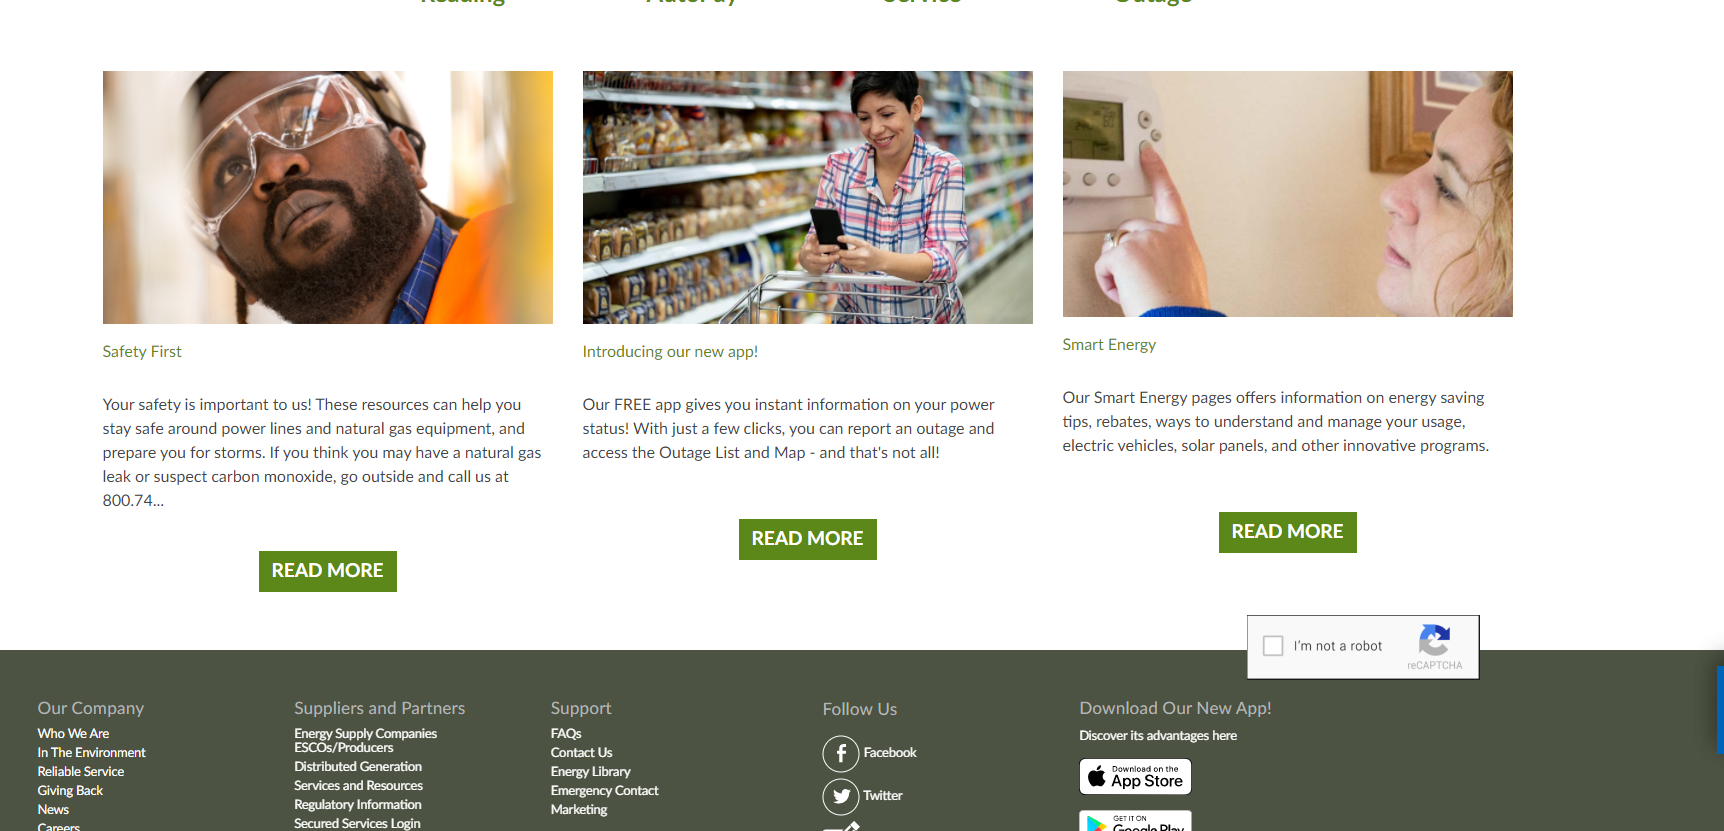captcha: (1248, 616, 1478, 678)
